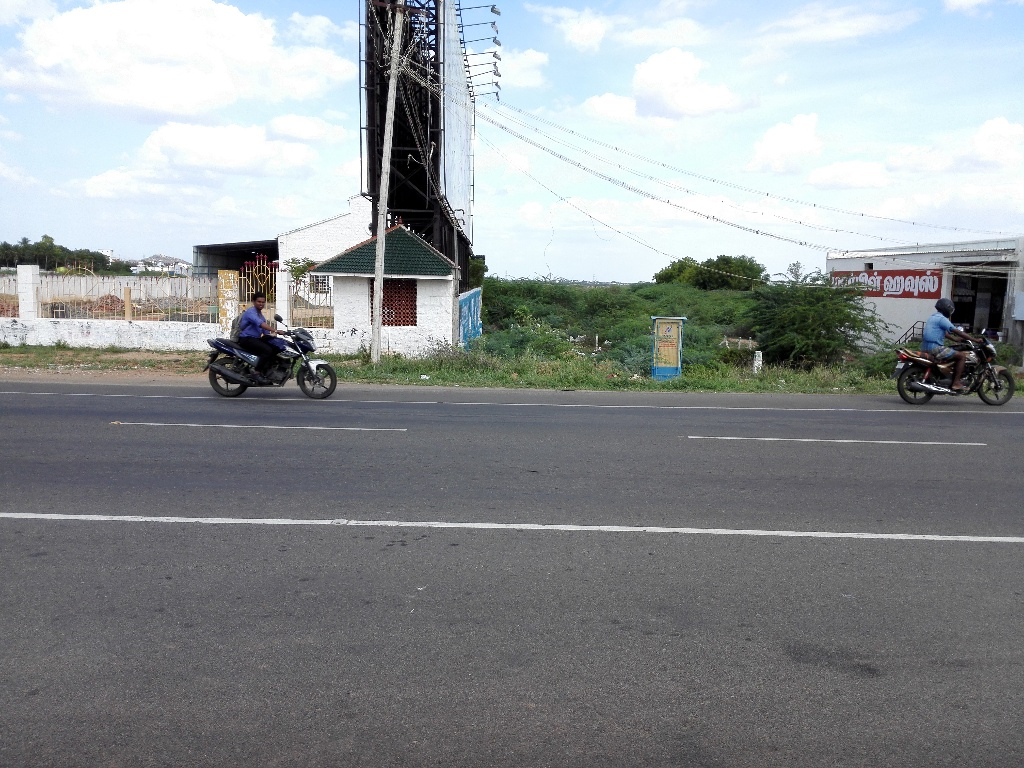biker: (193, 266, 354, 409), (883, 276, 1023, 413)
helmet: (931, 286, 963, 323)
nohelmet: (245, 285, 277, 322)
